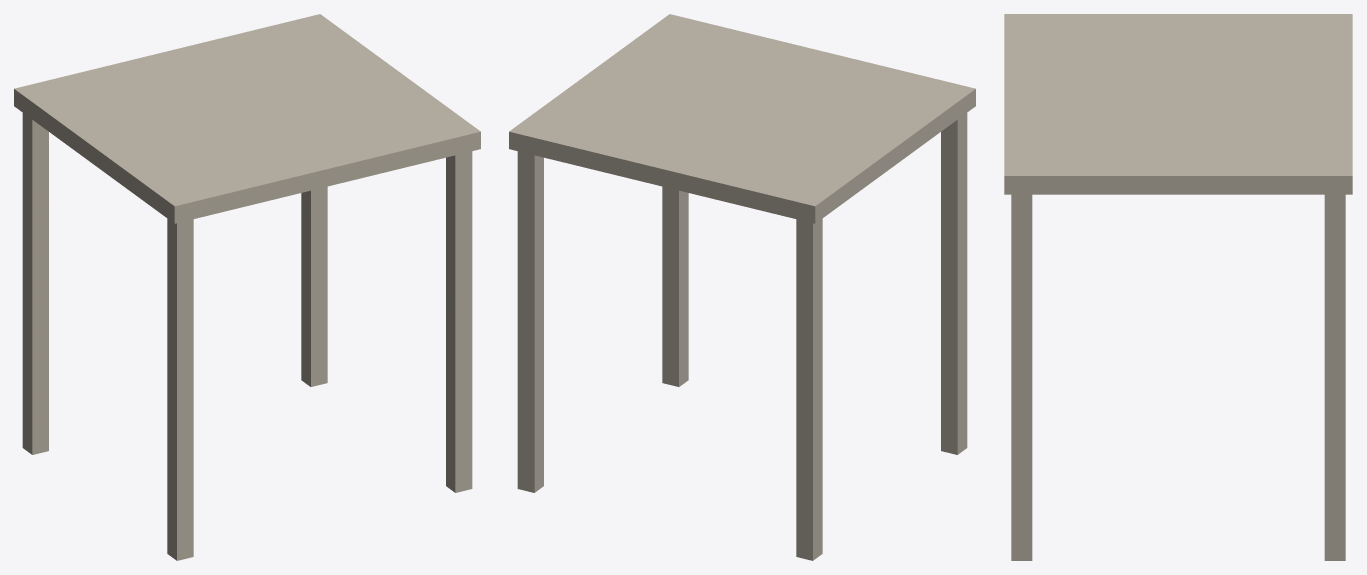
The model's file is desk.fbx.
3 renders of one model, left to right at view 1: azimuth 30°, elevation 25°; view 2: azimuth 150°, elevation 25°; view 3: azimuth 270°, elevation 25°, orthographic. The views are drawn at different scales.
Visible parts, largest first — view 1: Desk; view 2: Desk; view 3: Desk.
Part boxes in pixels (x1,y1,x2,y2): Desk: (14,14,480,560); Desk: (509,14,975,560); Desk: (1004,14,1352,560).
Bounding box in the file's own units: 110 × 123 × 100.
